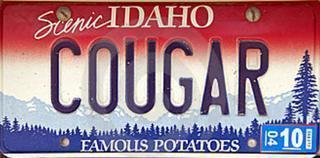placa de veiculo: (1, 2, 314, 154)
